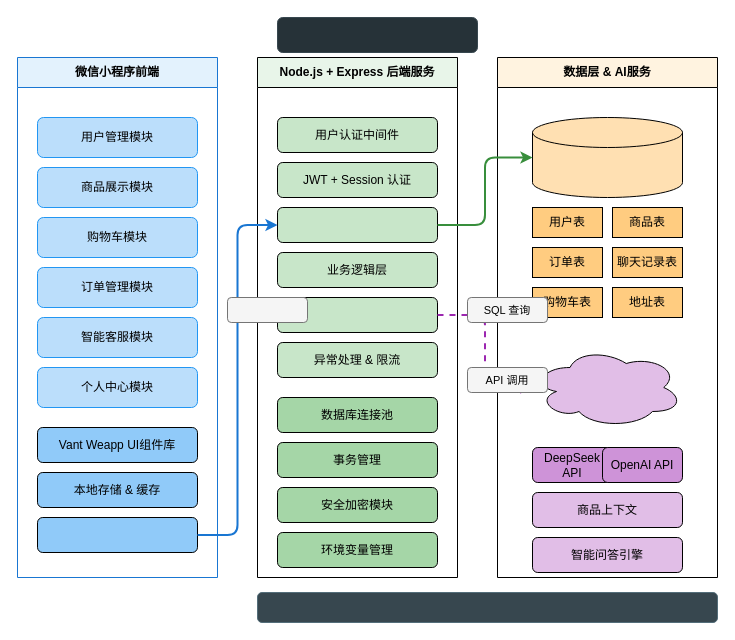
Some shapes in this 735 by 640 pixel diagram are drawn without their labels. The shapes that lost their labels are listed below. From the top down, each one's centre as x and y in pixels, then its label:
point 377,34: 系统架构图
point 607,157: MySQL 数据库
point 357,224: RESTful API 接口
point 267,309: HTTPS 请求
point 357,314: AI 接口封装层
point 607,387: AI 大模型服务
point 117,534: 网络请求层
point 487,607: 基于Node.js与JavaScript的智能购物小程序
